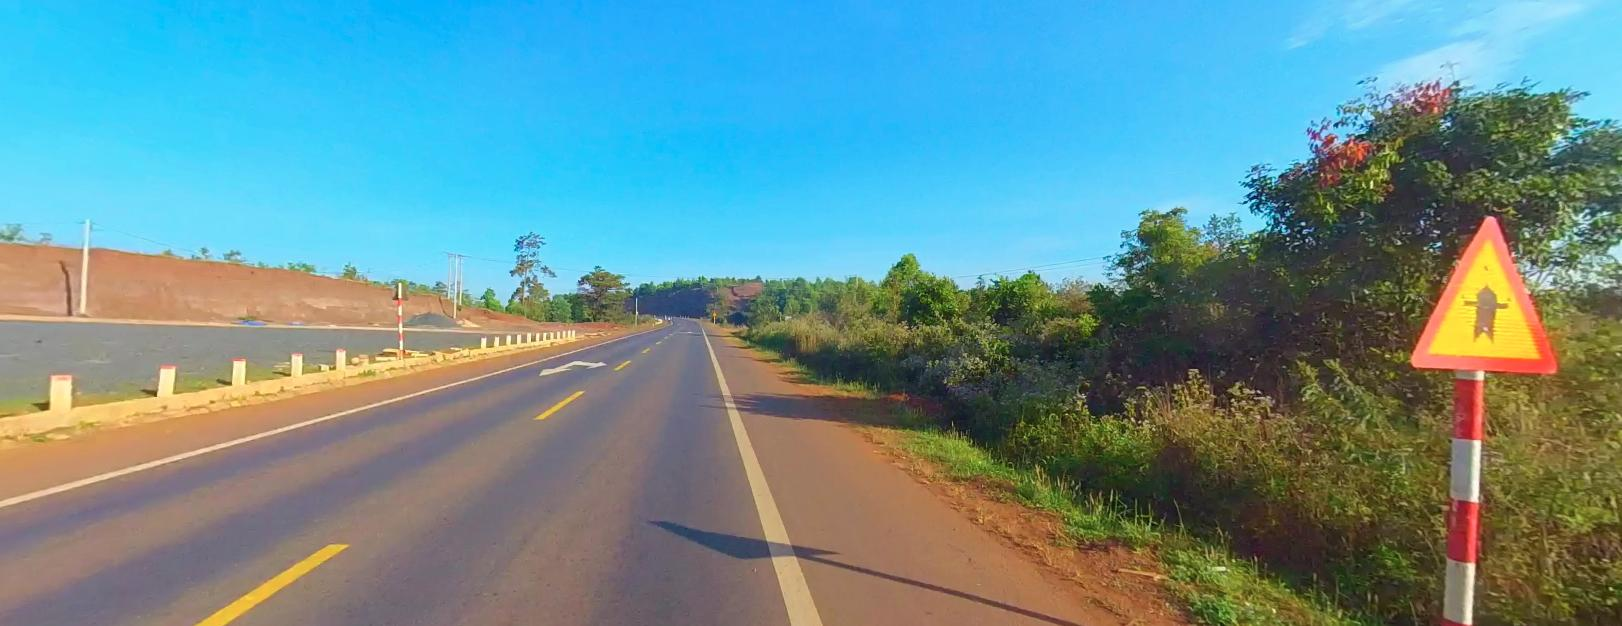Nguy hiem: (1409, 214, 1558, 375), (711, 309, 716, 314)
